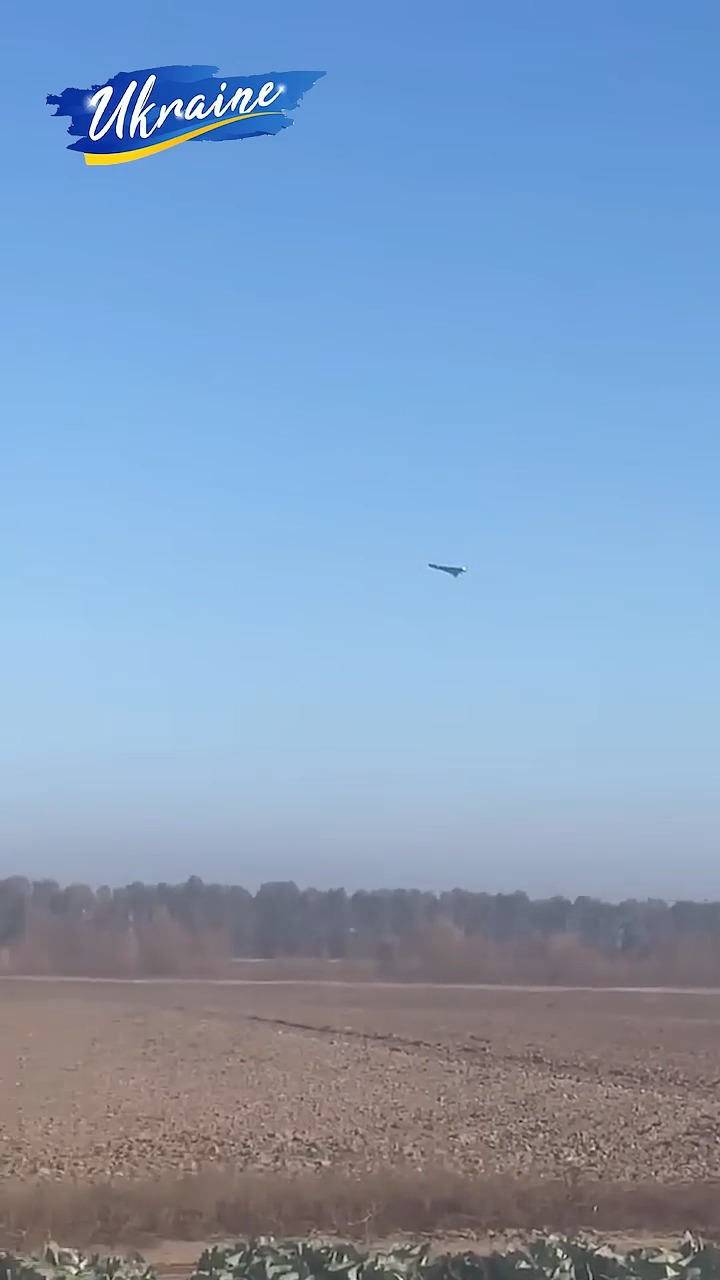shahed: (425, 562, 467, 578)
